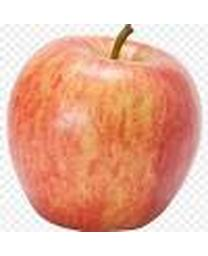apple: (6, 23, 202, 233)
